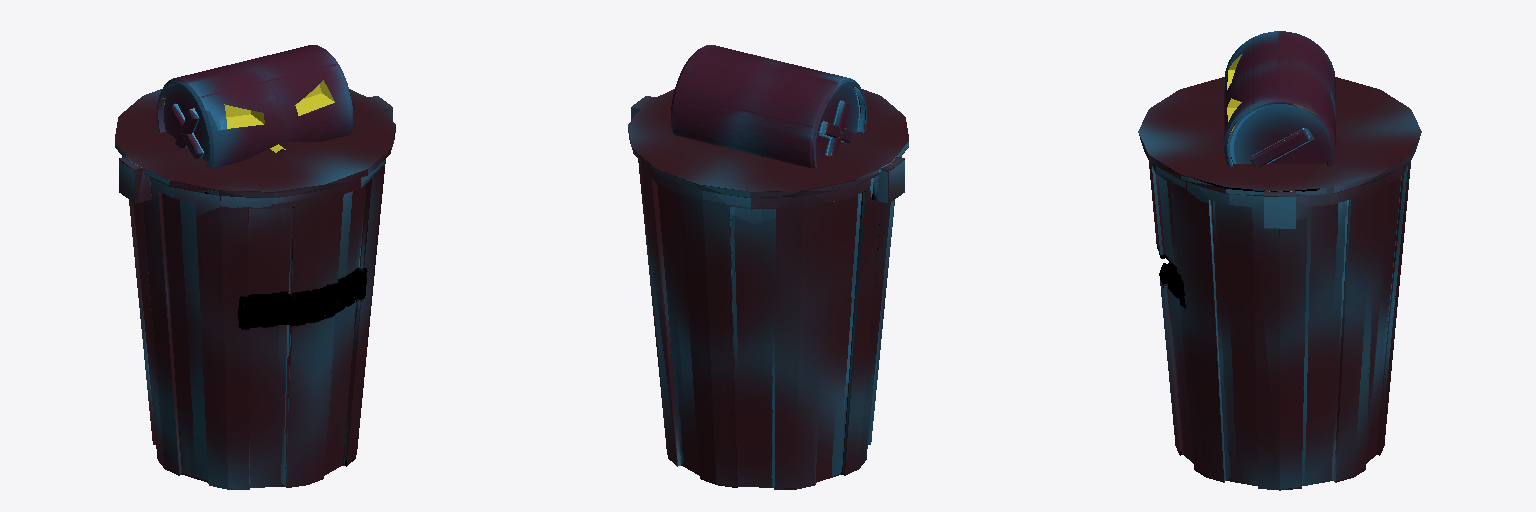
3 views of the same model, side by side, from view 1: azimuth 30°, elevation 25°; view 2: azimuth 150°, elevation 25°; view 3: azimuth 270°, elevation 25° (orthographic).
Parts seen in each view (by area): view 1: 円, Head; view 2: 円, Head; view 3: 円, Head.
Boxes of the visible parts, x1=… form: 円: x1=115, y1=89, x2=395, y2=489; Head: x1=157, y1=45, x2=352, y2=167; 円: x1=628, y1=89, x2=908, y2=489; Head: x1=671, y1=45, x2=866, y2=167; 円: x1=1138, y1=77, x2=1421, y2=490; Head: x1=1224, y1=31, x2=1335, y2=166.
Bounding box in the file's own units: 2.23 × 3.15 × 2.12.
Materials: 2 (2 with a texture image).